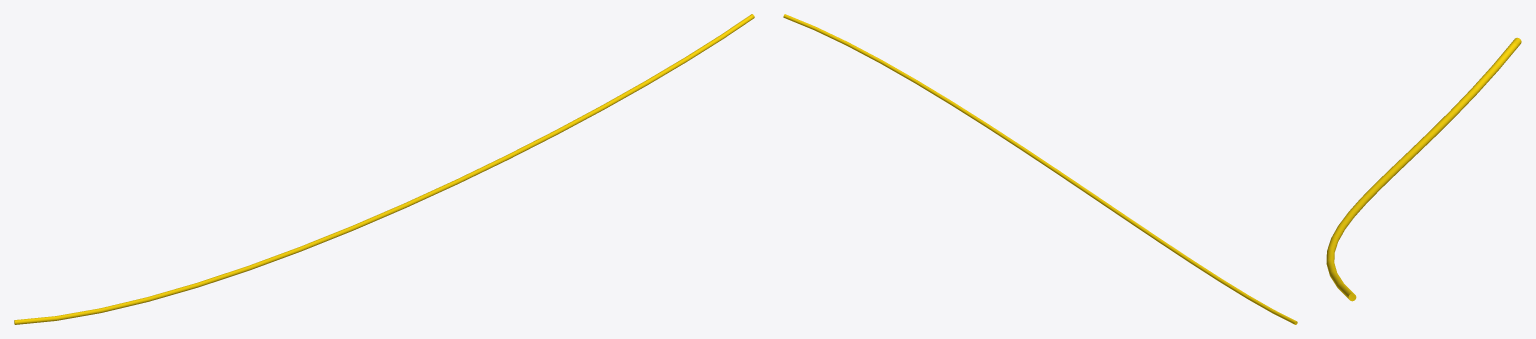
The model's file is Event_421115418_track_73.fbx.
The picture shows the model from 3 angles, left to right: view 1: azimuth 30°, elevation 25°; view 2: azimuth 150°, elevation 25°; view 3: azimuth 270°, elevation 25°; orthographic projection. The views are drawn at different scales.
Parts seen in each view (by area): view 1: Model; view 2: Model; view 3: Model.
Part boxes in pixels (x1,y1,x2,y2): Model: (14, 14, 754, 324); Model: (783, 14, 1297, 324); Model: (1326, 37, 1521, 301).
Bounding box in the file's own units: 6.49 × 1.63 × 0.9885.
